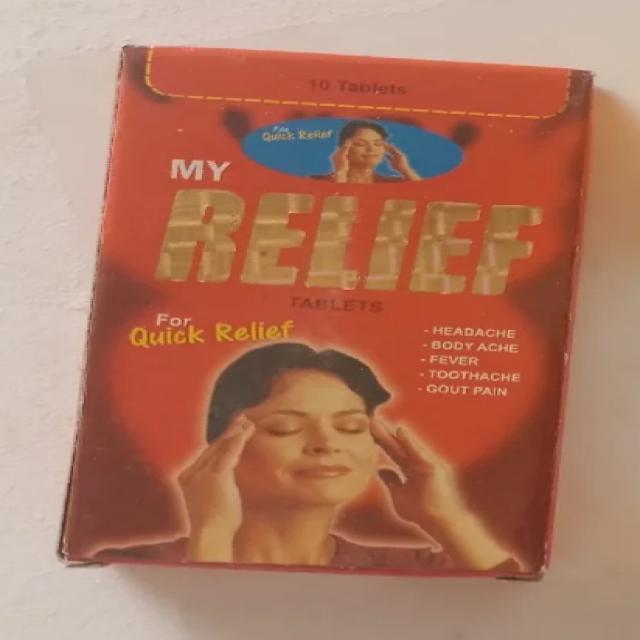drug-name: (137, 180, 564, 305)
